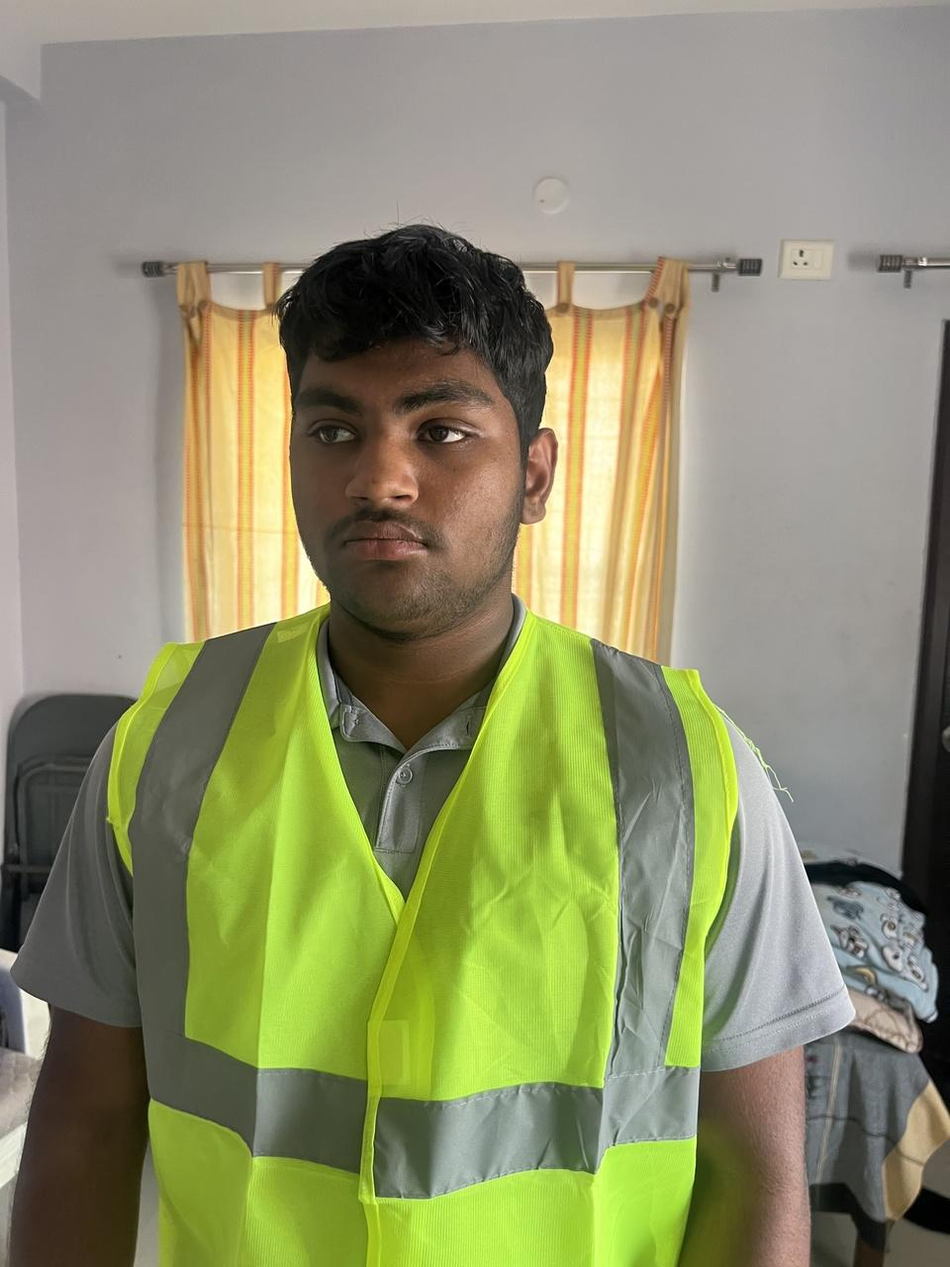No_Helmet: (271, 218, 558, 639)
Person: (4, 219, 856, 1267)
Vest: (106, 593, 738, 1267)
